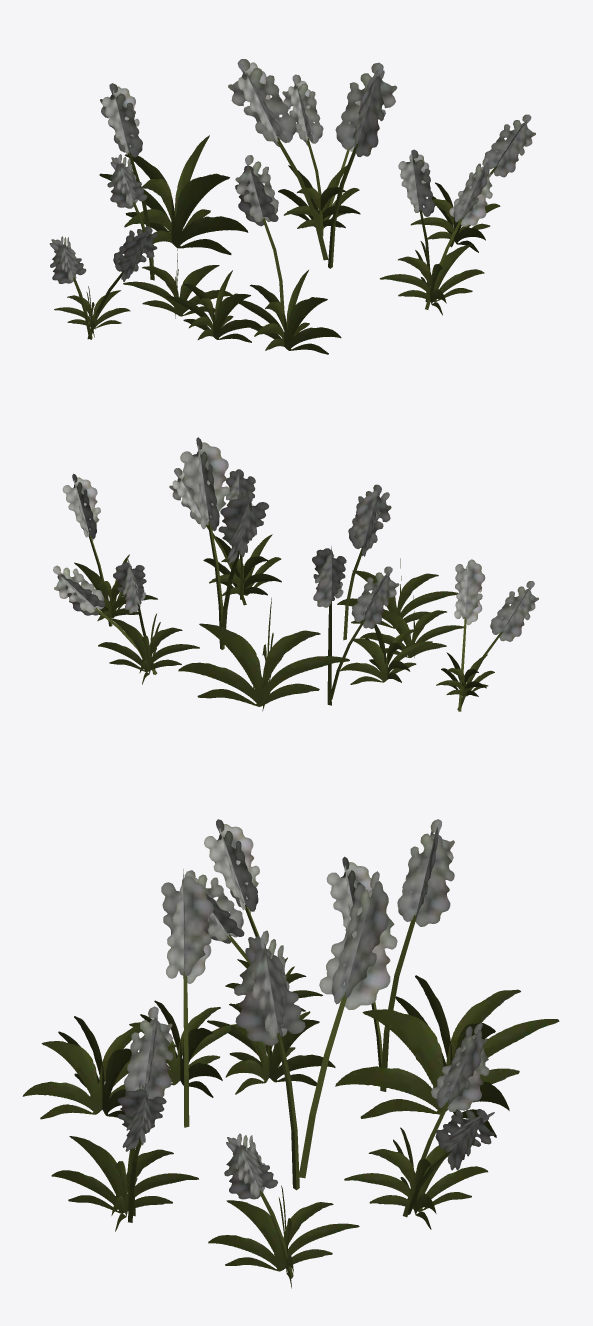
The picture shows the model from 3 angles, top to bottom: view 1: azimuth 30°, elevation 25°; view 2: azimuth 150°, elevation 25°; view 3: azimuth 270°, elevation 25°; orthographic projection. The views are drawn at different scales.
Parts seen in each view (by area): view 1: body0_model0_lod0_mesh0; view 2: body0_model0_lod0_mesh0; view 3: body0_model0_lod0_mesh0.
Part boxes in pixels (bbox=[...]): body0_model0_lod0_mesh0: bbox=[49, 59, 535, 354]; body0_model0_lod0_mesh0: bbox=[53, 437, 538, 711]; body0_model0_lod0_mesh0: bbox=[22, 819, 559, 1288].
Size of the model in its own units: 129 by 54.03 by 81.95.
1 material, 1 textured.
